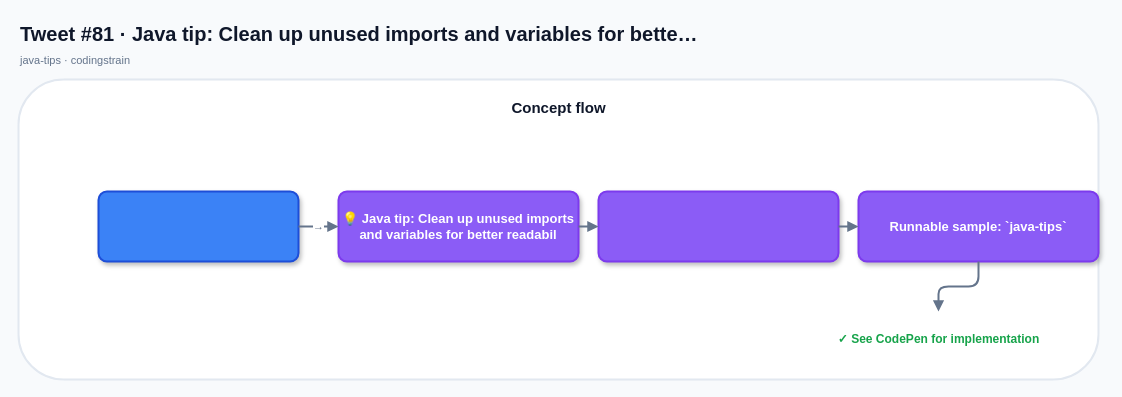
This 1122x397 diagram has some shape labels left out. Here are the shapes that lost their labels. From the top down, the centre of each, then its label:
At (199,227): "Problem / context".
At (719,227): "#Java #CleanCode".
